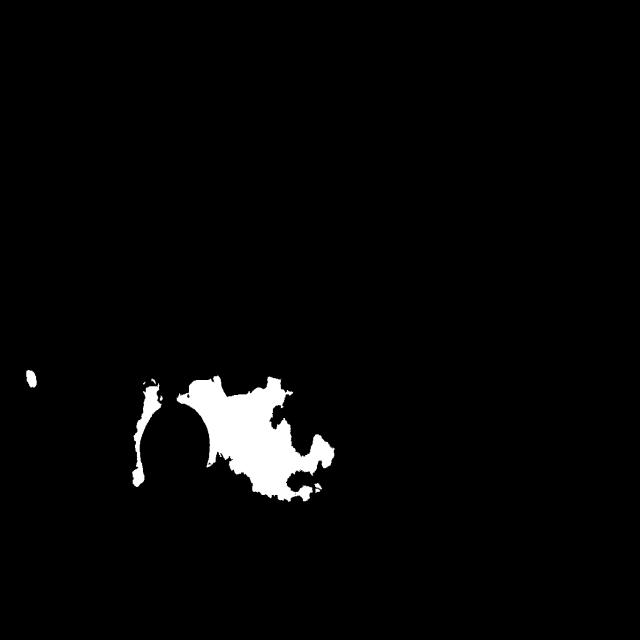fire: (26, 320, 349, 558)
